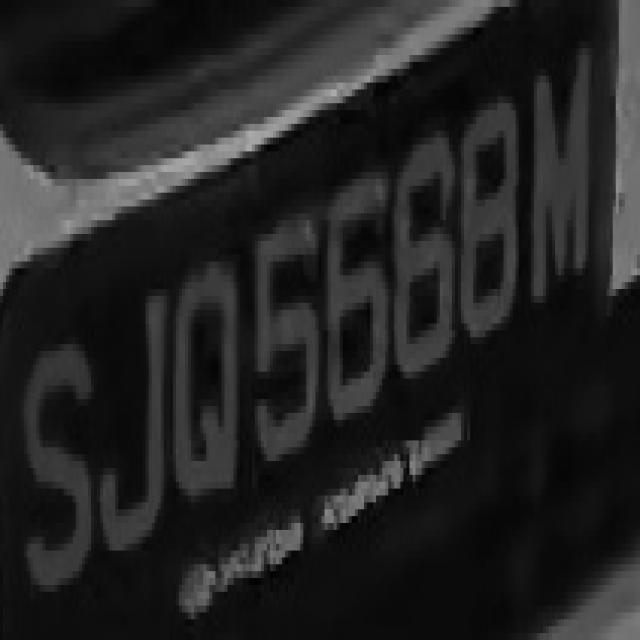5: (245, 213, 328, 489)
6: (316, 165, 400, 447), (388, 145, 458, 399)
8: (443, 117, 519, 365)
J: (94, 268, 170, 564)
M: (512, 75, 600, 302)
Q: (170, 234, 246, 516)
S: (18, 310, 97, 606)
